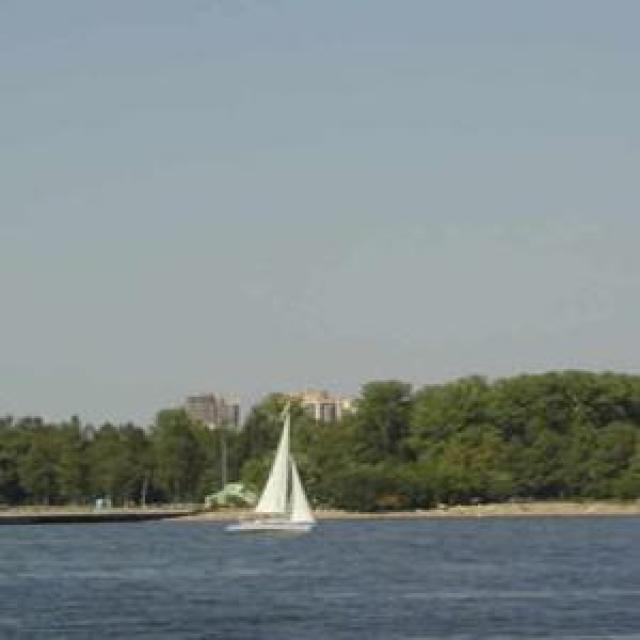sailboat: (223, 404, 319, 536)
